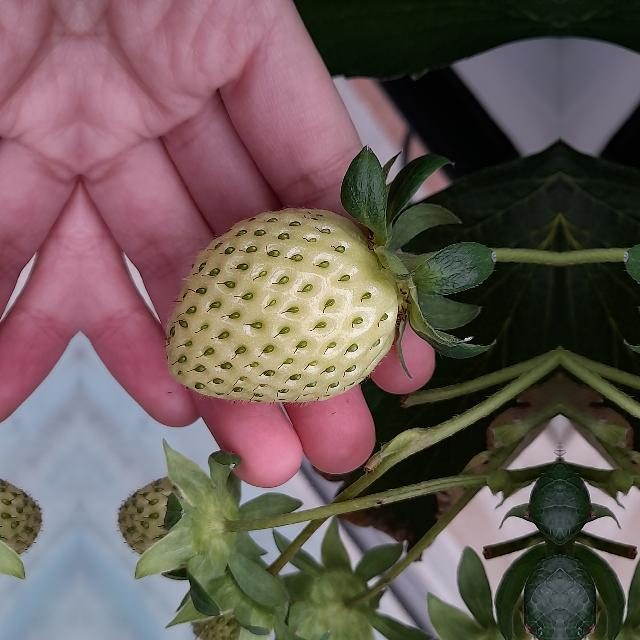Health_25: (164, 207, 398, 403)
